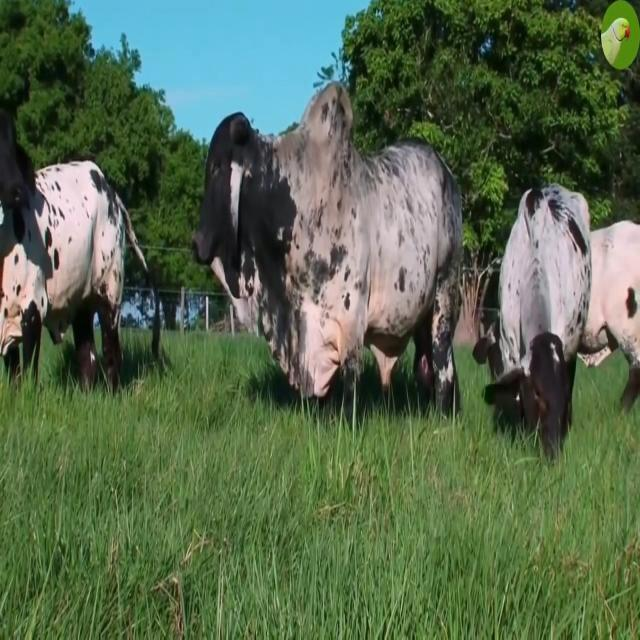cow: (194, 84, 461, 412), (0, 109, 144, 388), (486, 185, 591, 457)
